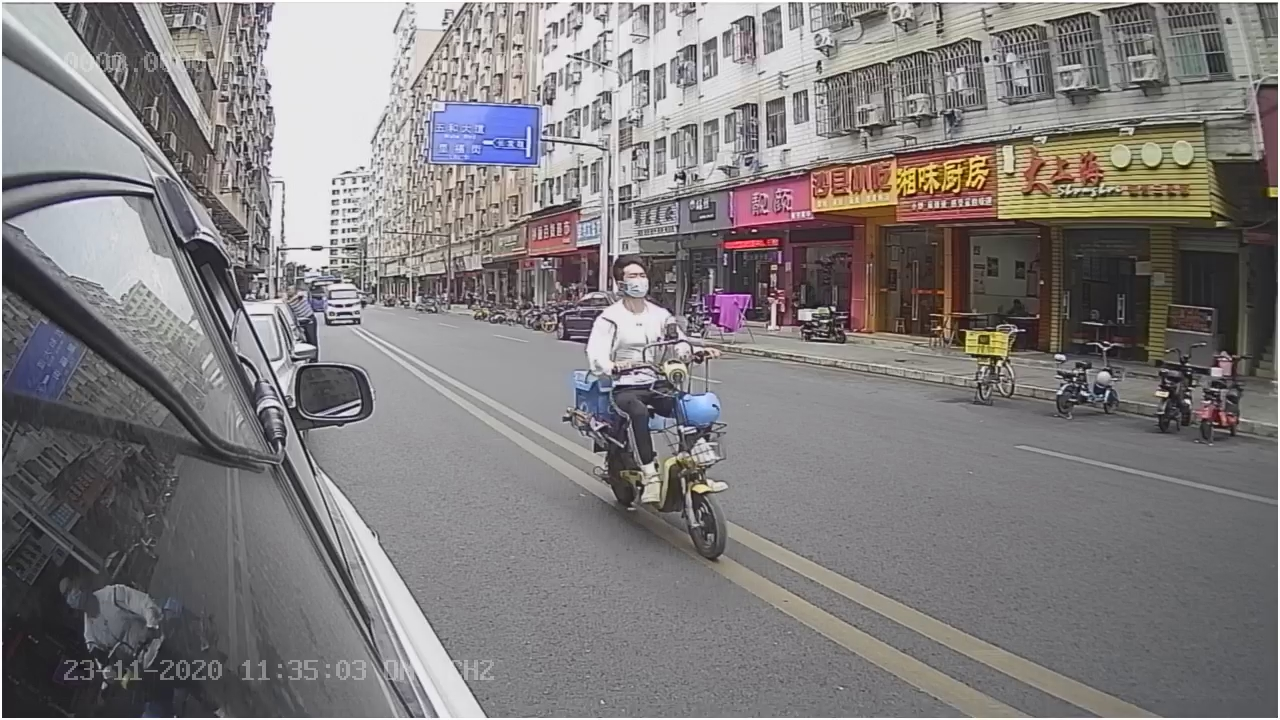person: (581, 249, 698, 377)
